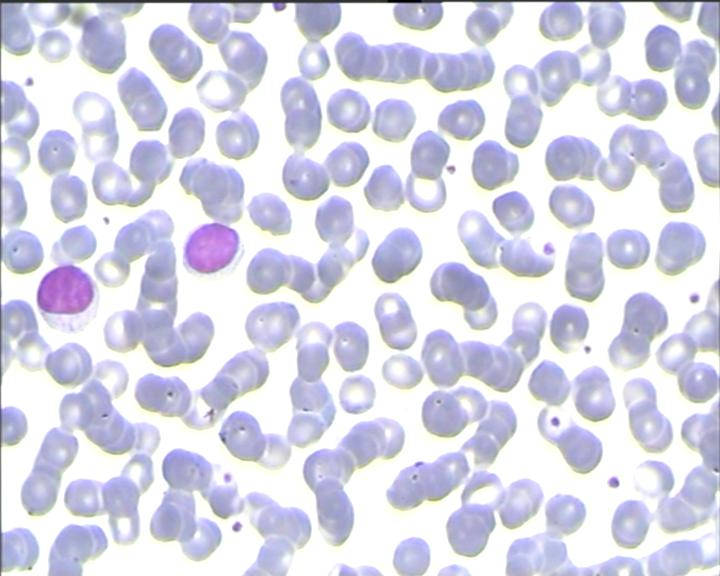lymp: (32, 262, 109, 337), (178, 219, 241, 283)
